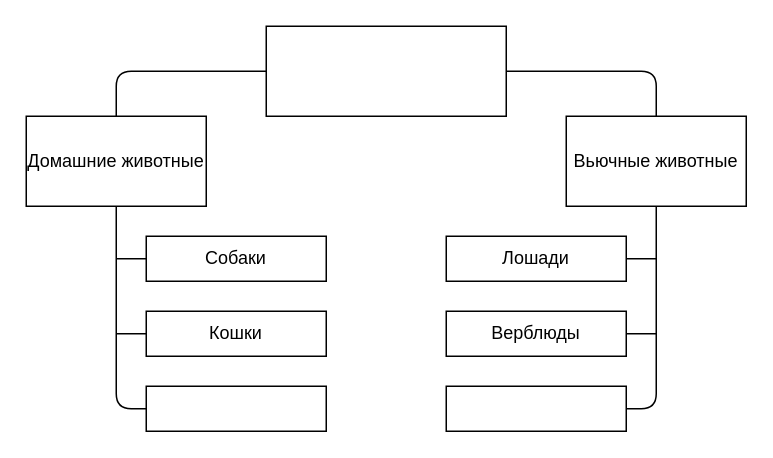
The diagram is 773 pixels wide and 458 high, and some of its shapes have lost their labels. The shapes that lost their labels are listed below. From the top down, each one's box as (x1, y1, x2, y2) in pixels, then its label:
(265, 25, 506, 116): Животное (родительский класс)
(145, 385, 326, 431): Хомяки
(445, 385, 626, 431): Ослы
